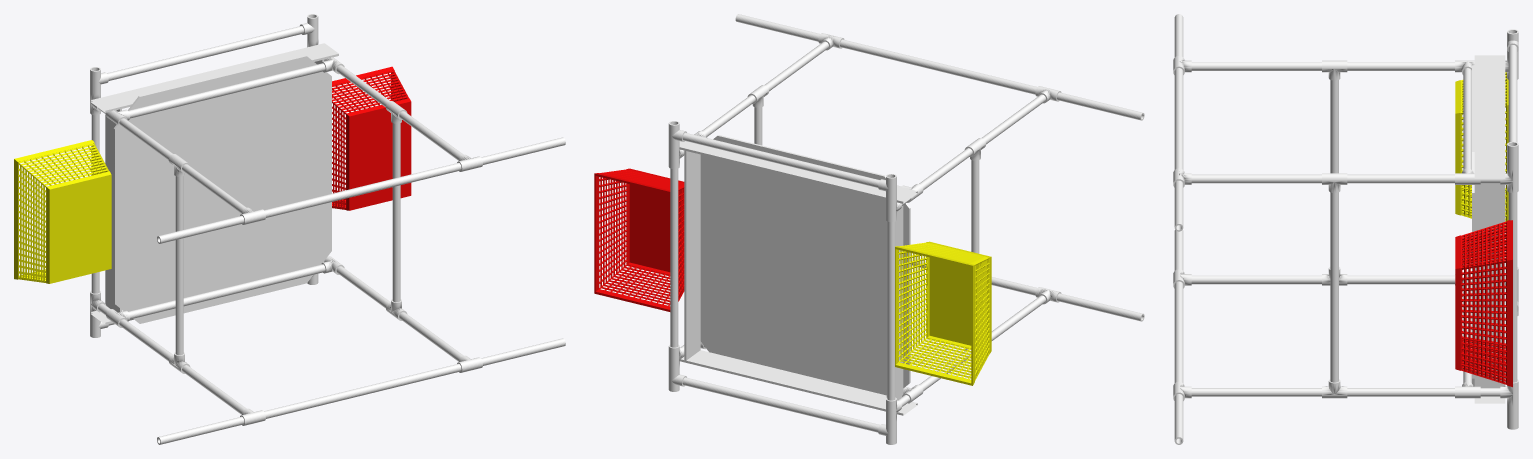
Rendered from table.obj.
The picture shows the model from 3 angles, left to right: view 1: azimuth 30°, elevation 25°; view 2: azimuth 150°, elevation 25°; view 3: azimuth 270°, elevation 25°; orthographic projection. The views are drawn at different scales.
Parts seen in each view (by area): view 1: Base.001, Baskets_X.001, Baskets_X.002_Baskets_X.003, Pipe_Bottom.001, Pipe.001, Pipe_Y1.001, Pipe_Mid.001, Side_Y.001, Pipe_Y2.001, Connector_Bottom.001, Side_X.001, Connector_Top_Y2.001 (+2 smaller); view 2: Base.001, Baskets_X.001, Baskets_X.002_Baskets_X.003, Side_Y.001, Side_X.001, Pipe_Bottom.001, Pipe_Y2.001, Pipe.001, Pipe_X.001, Connector_Top_Y2.001, Connector_Top_X.001, Pipe_Mid.001 (+2 smaller); view 3: Pipe.001, Baskets_X.002_Baskets_X.003, Side_Y.001, Pipe_Bottom.001, Side_X.001, Pipe_Mid.001, Baskets_X.001, Connector_Mid.001, Pipe_Y1.001, Pipe_X.001, Connector_Bottom.001, Connector_Top_Y1.001 (+4 smaller).
Part boxes in pixels (<box>): Base.001: <box>113,55,331,323</box>; Baskets_X.001: <box>14,140,111,283</box>; Baskets_X.002_Baskets_X.003: <box>332,66,411,210</box>; Pipe_Bottom.001: <box>157,137,565,444</box>; Pipe.001: <box>98,65,463,414</box>; Pipe_Y1.001: <box>128,63,325,319</box>; Pipe_Mid.001: <box>175,123,400,355</box>; Side_Y.001: <box>91,43,338,324</box>; Pipe_Y2.001: <box>107,26,304,325</box>; Connector_Bottom.001: <box>240,154,482,425</box>; Side_X.001: <box>105,59,324,312</box>; Connector_Top_Y2.001: <box>90,14,318,337</box>; Base.001: <box>700,135,910,395</box>; Baskets_X.001: <box>895,241,991,385</box>; Baskets_X.002_Baskets_X.003: <box>594,168,684,311</box>; Side_Y.001: <box>679,141,917,415</box>; Side_X.001: <box>684,150,903,400</box>; Pipe_Bottom.001: <box>735,14,1144,321</box>; Pipe_Y2.001: <box>682,132,879,432</box>; Pipe.001: <box>680,41,1045,406</box>; Pipe_X.001: <box>670,168,895,400</box>; Connector_Top_Y2.001: <box>668,121,896,444</box>; Connector_Top_X.001: <box>668,145,902,422</box>; Pipe_Mid.001: <box>754,107,979,253</box>; Pipe.001: <box>1191,62,1500,396</box>; Baskets_X.002_Baskets_X.003: <box>1455,220,1512,387</box>; Side_Y.001: <box>1474,55,1505,403</box>; Pipe_Bottom.001: <box>1174,14,1183,444</box>; Side_X.001: <box>1474,183,1505,387</box>; Pipe_Mid.001: <box>1330,80,1338,382</box>; Baskets_X.001: <box>1455,72,1508,227</box>; Connector_Mid.001: <box>1322,60,1347,398</box>; Pipe_Y1.001: <box>1463,68,1471,382</box>; Pipe_X.001: <box>1508,192,1517,382</box>; Connector_Bottom.001: <box>1173,56,1191,400</box>; Connector_Top_Y1.001: <box>1455,60,1480,398</box>.
Bounding box in the file's own units: 1.23 × 0.7747 × 0.8576.
3 materials, 3 textured.
